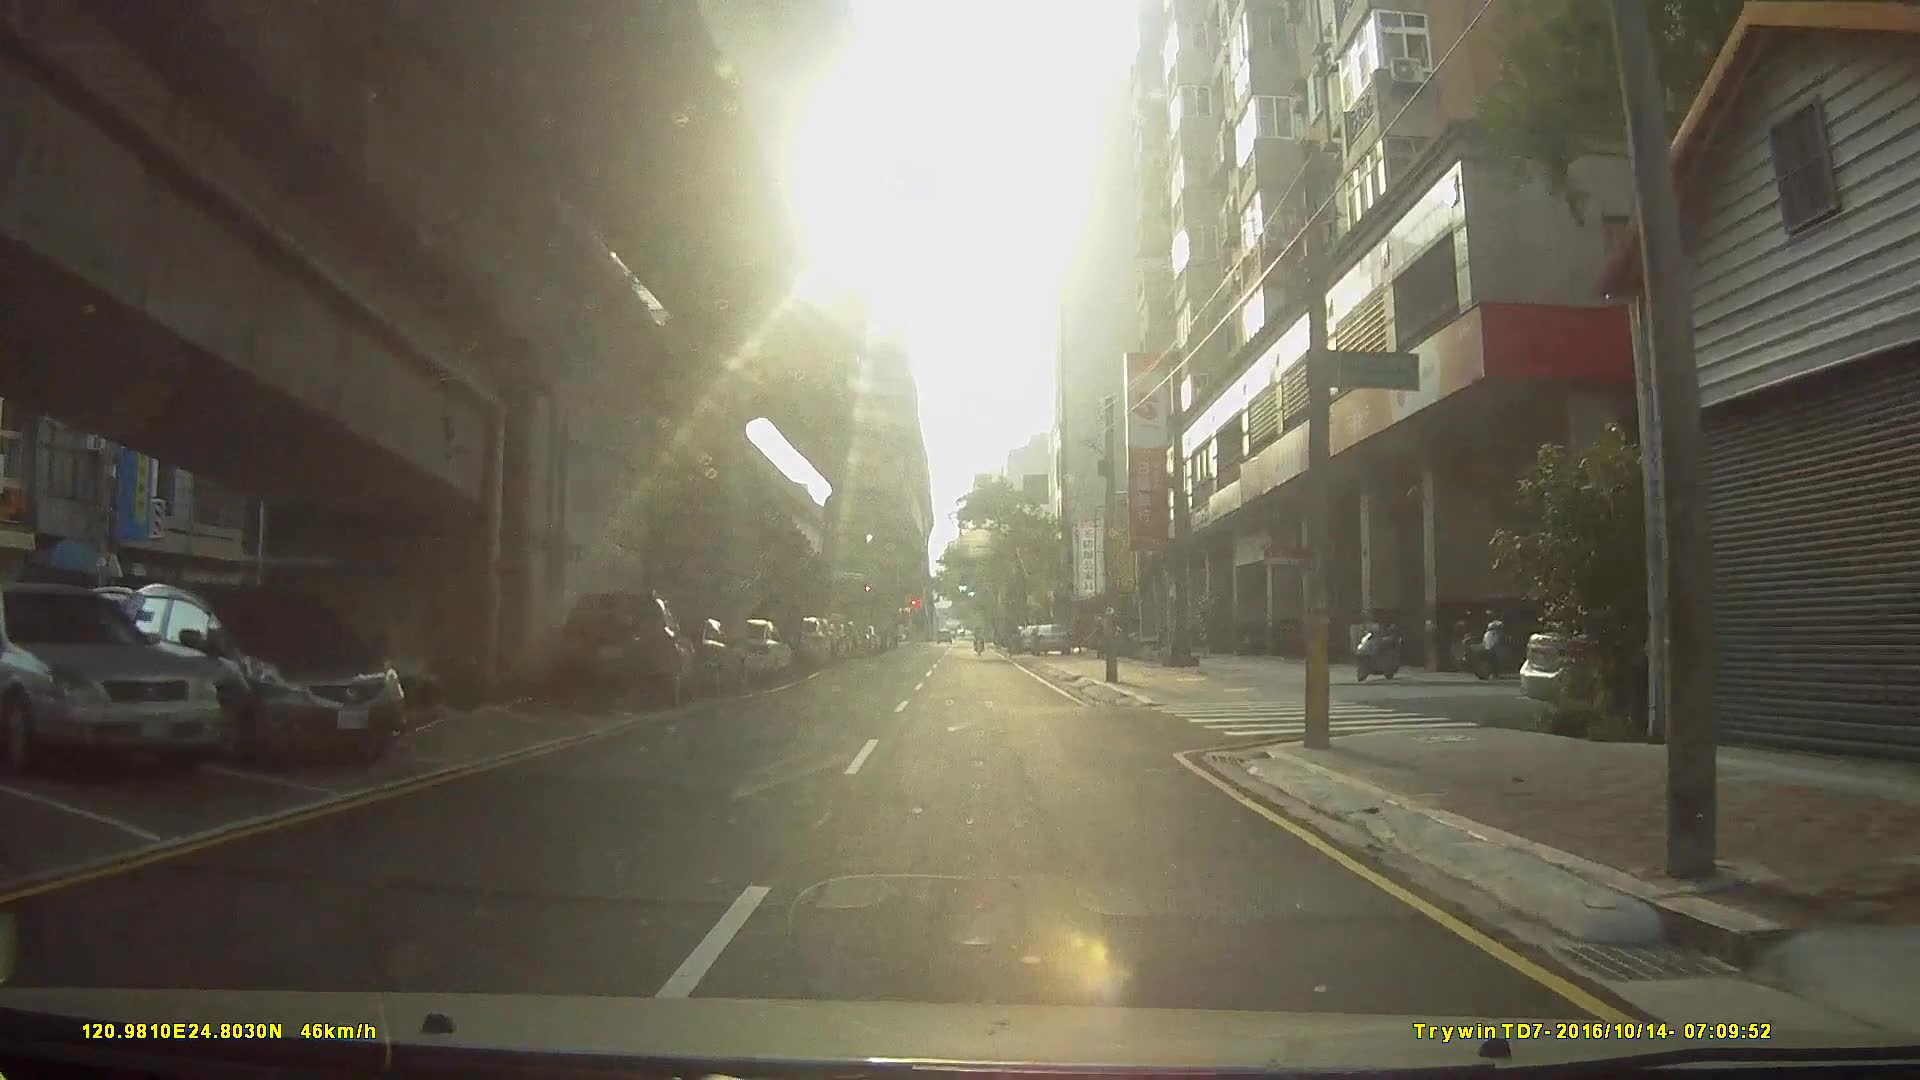vehicle: (107, 578, 404, 761), (0, 582, 219, 773), (554, 589, 698, 705), (1029, 620, 1069, 655)
